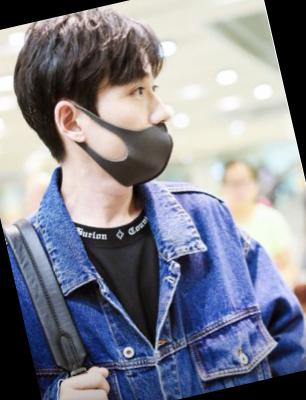mask_weared_incorrect: (79, 67, 185, 193)
